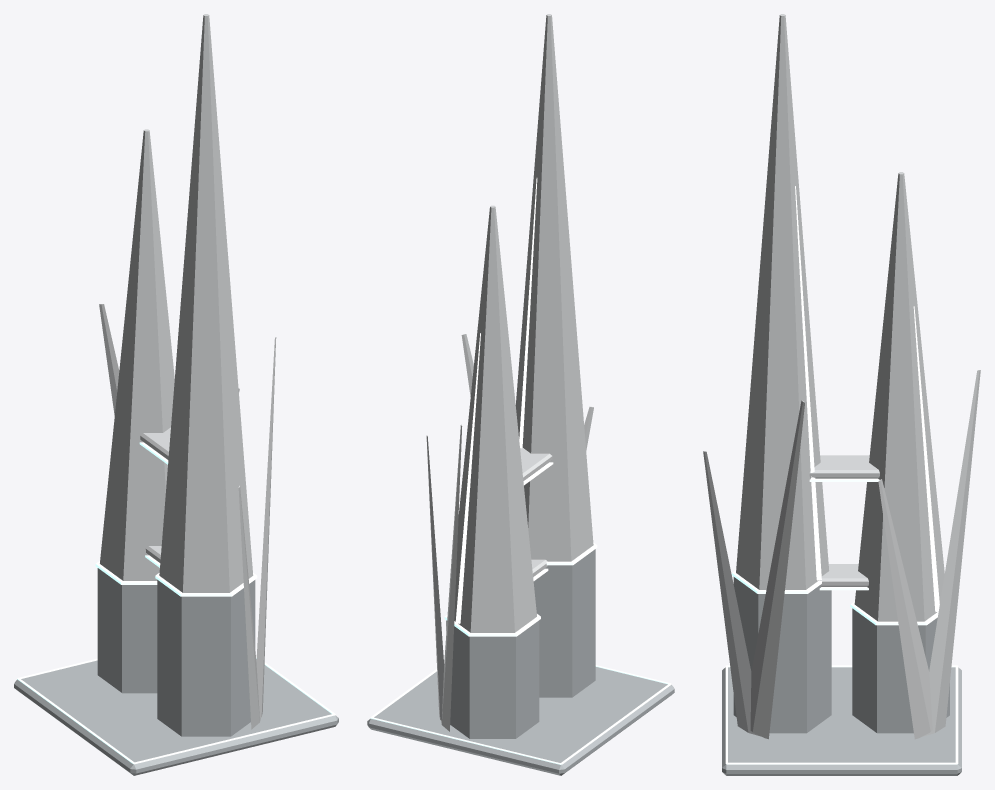
The model's file is zone_high_6.glb.
3 views of the same model, side by side, from view 1: azimuth 30°, elevation 25°; view 2: azimuth 150°, elevation 25°; view 3: azimuth 270°, elevation 25° (orthographic). The views are drawn at different scales.
Visible parts, largest first — view 1: zone_high_6, detail; view 2: zone_high_6, detail; view 3: zone_high_6, detail.
Boxes of the visible parts, x1,y1,x2,y2 form: zone_high_6: (14,14,338,775); detail: (17,656,335,764); zone_high_6: (367,14,674,775); detail: (370,665,671,764); zone_high_6: (703,14,980,775); detail: (725,665,958,764).
Size of the model in its own units: 27.5 by 90.35 by 31.84.
